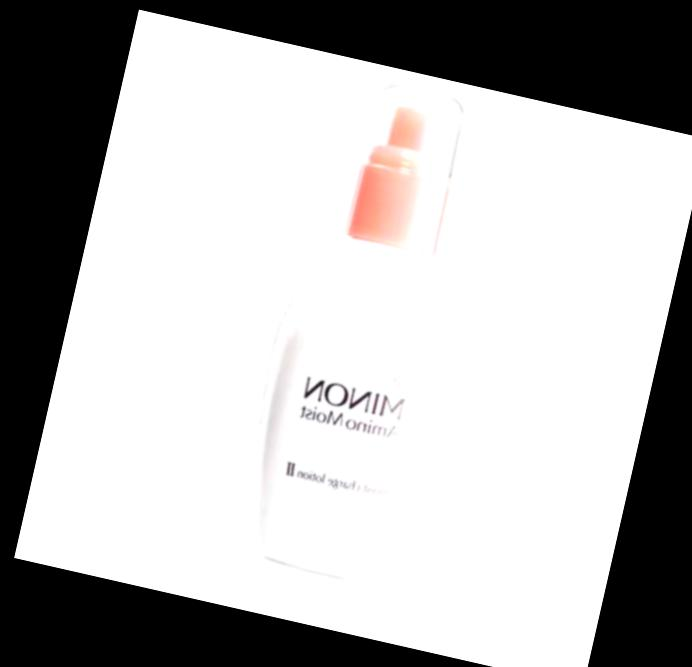cosmetic: (223, 63, 515, 596)
